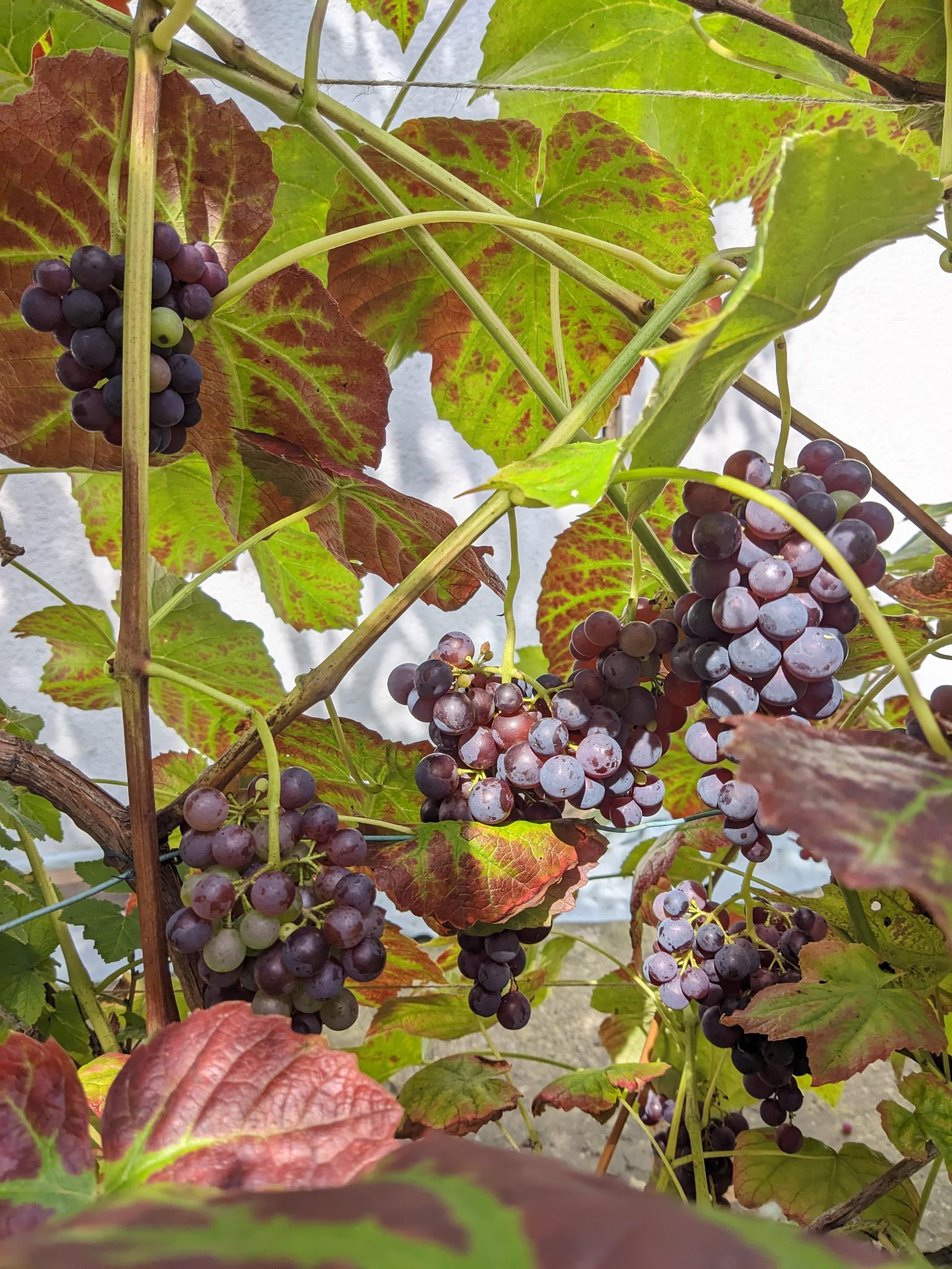Grape Ripe: (168, 767, 386, 1032), (388, 634, 665, 827), (673, 481, 860, 722), (644, 884, 827, 1127), (20, 246, 125, 446), (149, 223, 227, 454), (772, 467, 892, 582)
